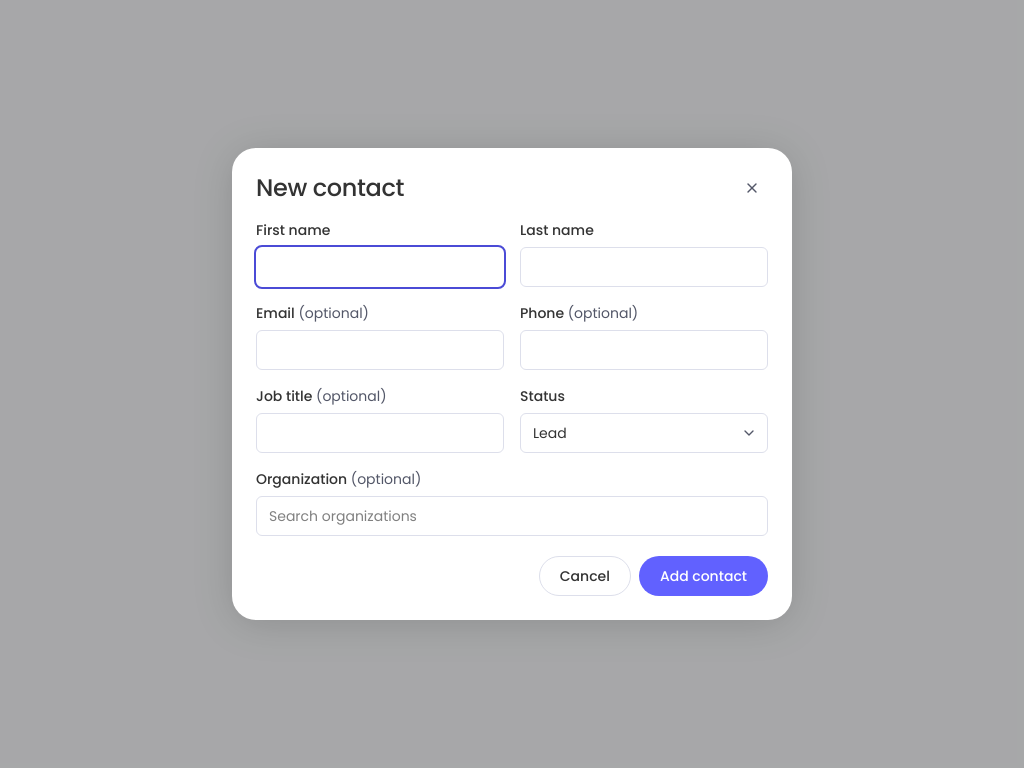
contact form › refuses a malformed email and missing names
Expected: the dialog "New contact" is shown, [232,148,792,620]
In the field labelled "Email (optional)": point(380, 350) [256,330,504,370], type "dana@"
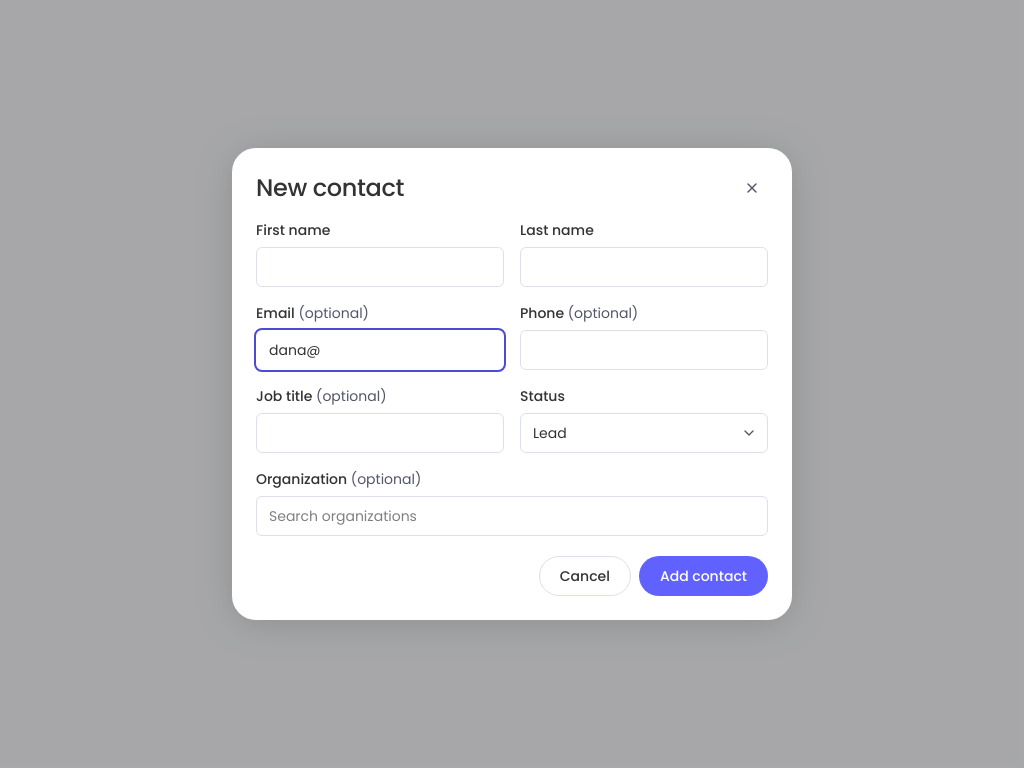
Click the button "Add contact": point(703, 576) [639,556,768,596]
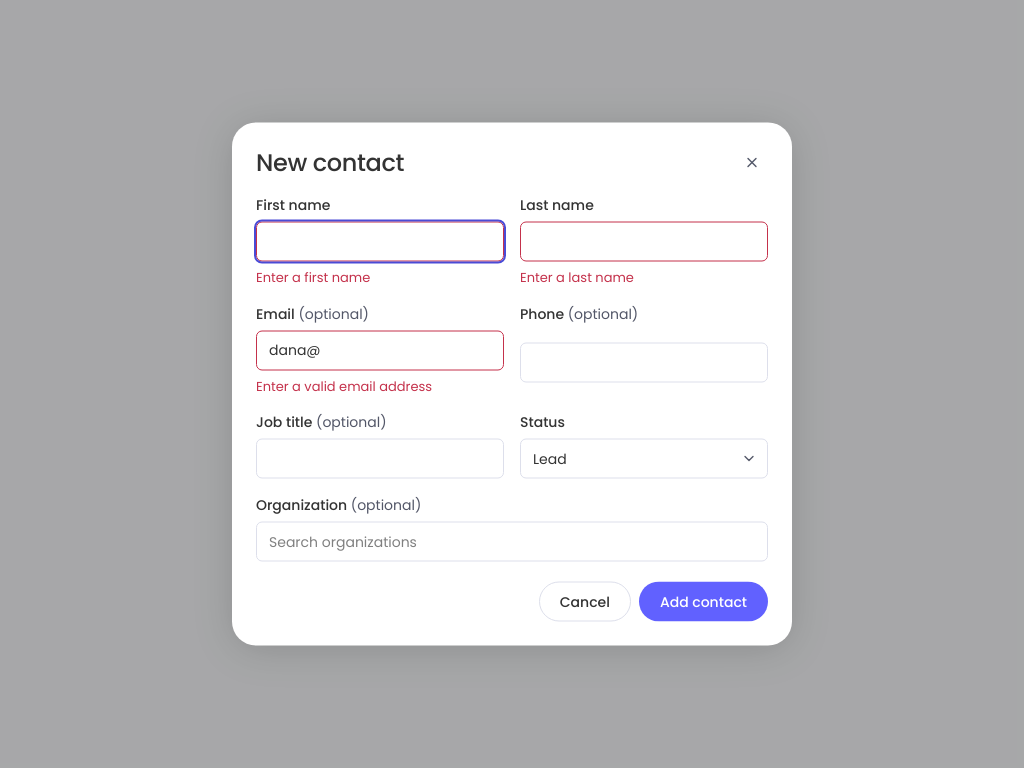
Expected: the text "Enter a valid email address" is shown, [256,376,432,395]
Expected: the text "Enter a first name" is shown, [256,268,370,286]
Expected: the text "Enter a last name" is shown, [520,268,634,286]
